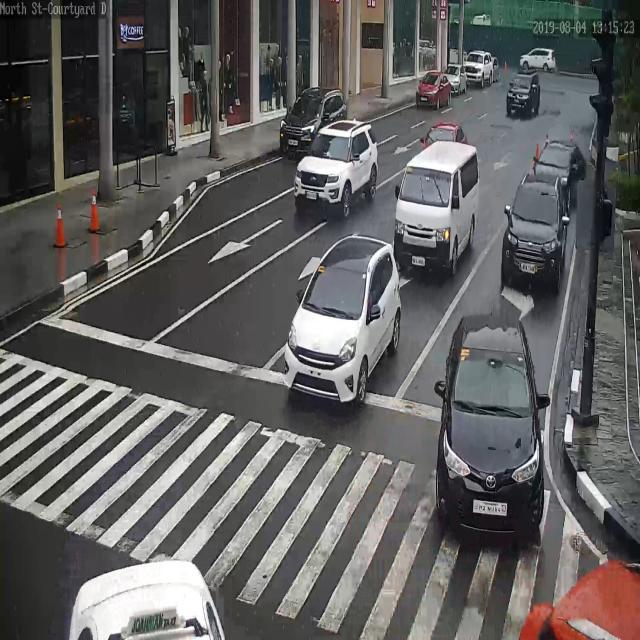car: (438, 311, 543, 550), (283, 232, 402, 408), (68, 558, 226, 640), (292, 118, 381, 217), (517, 569, 640, 640), (501, 172, 564, 291), (279, 87, 347, 152), (534, 137, 587, 210), (506, 72, 541, 119), (416, 70, 453, 107), (423, 123, 468, 151), (464, 49, 495, 88), (518, 47, 559, 73), (443, 64, 472, 93)
van: (392, 141, 479, 278)
